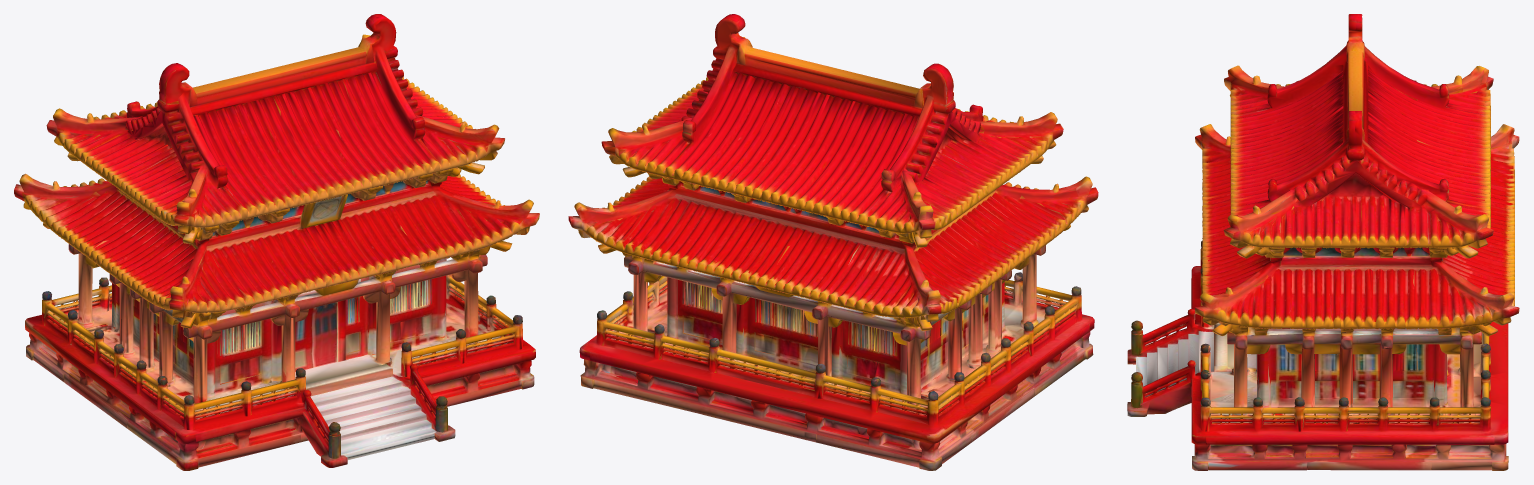
3 views of the same model, side by side, from view 1: azimuth 30°, elevation 25°; view 2: azimuth 150°, elevation 25°; view 3: azimuth 270°, elevation 25° (orthographic). The views are drawn at different scales.
Visible parts, largest first — view 1: Untitled_6; view 2: Untitled_6; view 3: Untitled_6.
Part boxes in pixels (x1,y1,x2,y2): Untitled_6: [14, 14, 539, 470]; Untitled_6: [568, 14, 1098, 470]; Untitled_6: [1127, 14, 1519, 470].
Bounding box in the file's own units: 2 × 1.69 × 1.86.
1 material, 1 textured.
